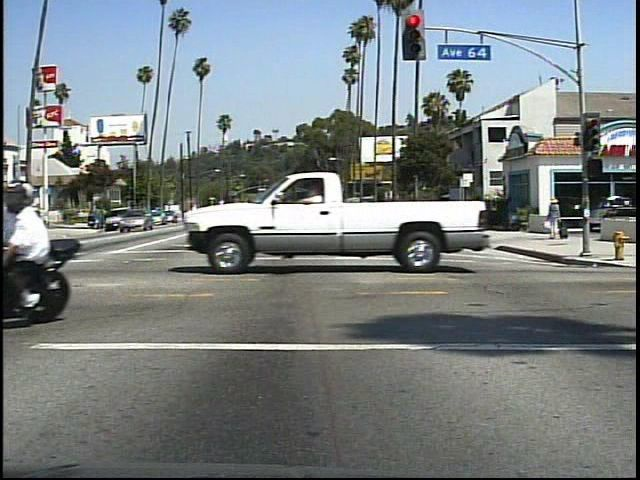person: (542, 194, 566, 243)
